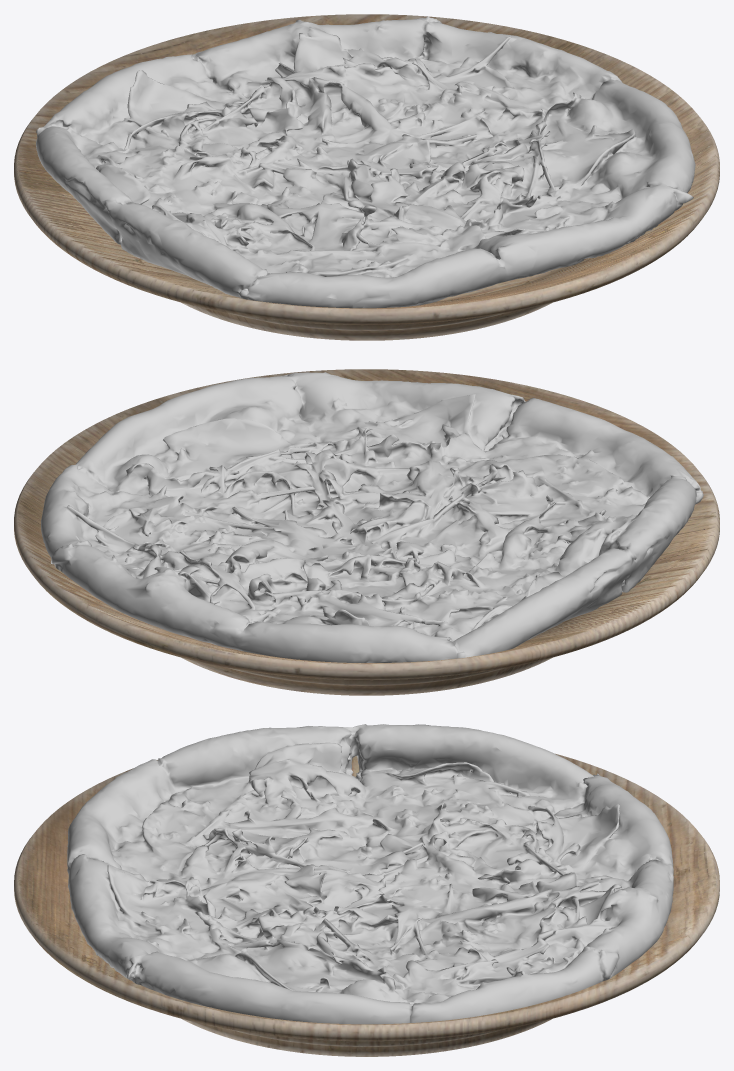
3 views of the same model, one above another, from view 1: azimuth 30°, elevation 25°; view 2: azimuth 150°, elevation 25°; view 3: azimuth 270°, elevation 25° (orthographic).
Parts seen in each view (by area): view 1: pizza, Tarelka001; view 2: pizza, Tarelka001; view 3: pizza, Tarelka001.
Boxes of the visible parts, x1,y1,x2,y2 form: pizza: (36, 16, 695, 308); Tarelka001: (14, 14, 719, 340); pizza: (41, 372, 703, 662); Tarelka001: (14, 369, 719, 695); pizza: (67, 724, 673, 1024); Tarelka001: (14, 753, 719, 1056).
Bounding box in the file's own units: 0.6031 × 0.1028 × 0.6031.
